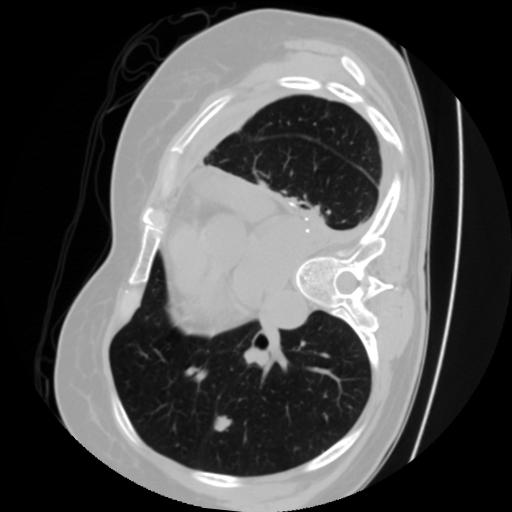nodule: (211, 411, 234, 434)
